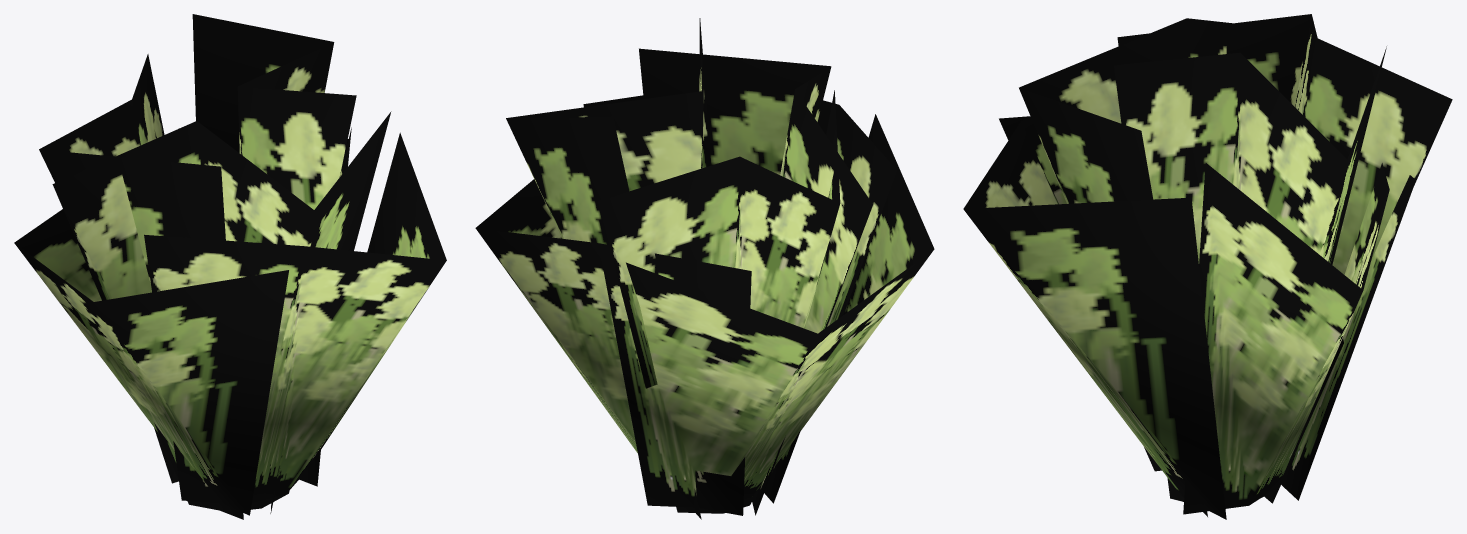
Rendered from Koeleria.fbx.
3 renders of one model, left to right at view 1: azimuth 30°, elevation 25°; view 2: azimuth 150°, elevation 25°; view 3: azimuth 270°, elevation 25°, orthographic. The views are drawn at different scales.
Parts seen in each view (by area): view 1: Koeleria; view 2: Koeleria; view 3: Koeleria.
Part boxes in pixels (left/top/right/bottom): Koeleria: left=14, top=14, right=446, bottom=519; Koeleria: left=475, top=18, right=934, bottom=519; Koeleria: left=963, top=14, right=1452, bottom=519.
Size of the model in its own units: 58.01 by 66.52 by 63.41.
